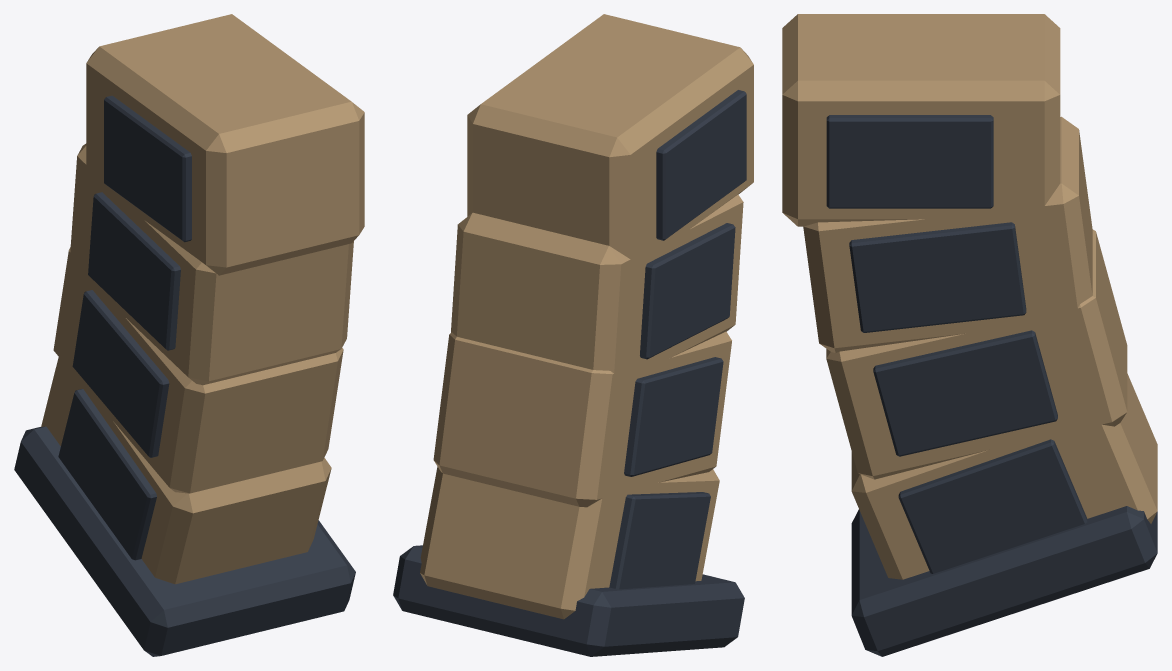
File: Module_ExtendedMag_v003.fbx
3 renders of one model, left to right at view 1: azimuth 30°, elevation 25°; view 2: azimuth 150°, elevation 25°; view 3: azimuth 270°, elevation 25°, orthographic. The views are drawn at different scales.
Parts seen in each view (by area): view 1: Module_ExtendedMag__MAGAZINE_MESH; view 2: Module_ExtendedMag__MAGAZINE_MESH; view 3: Module_ExtendedMag__MAGAZINE_MESH.
Boxes of the visible parts, bbox=[...] form: Module_ExtendedMag__MAGAZINE_MESH: bbox=[14, 14, 364, 656]; Module_ExtendedMag__MAGAZINE_MESH: bbox=[393, 14, 753, 656]; Module_ExtendedMag__MAGAZINE_MESH: bbox=[782, 14, 1157, 656].
Bounding box in the file's own units: 0.22 × 0.5595 × 0.3377.
